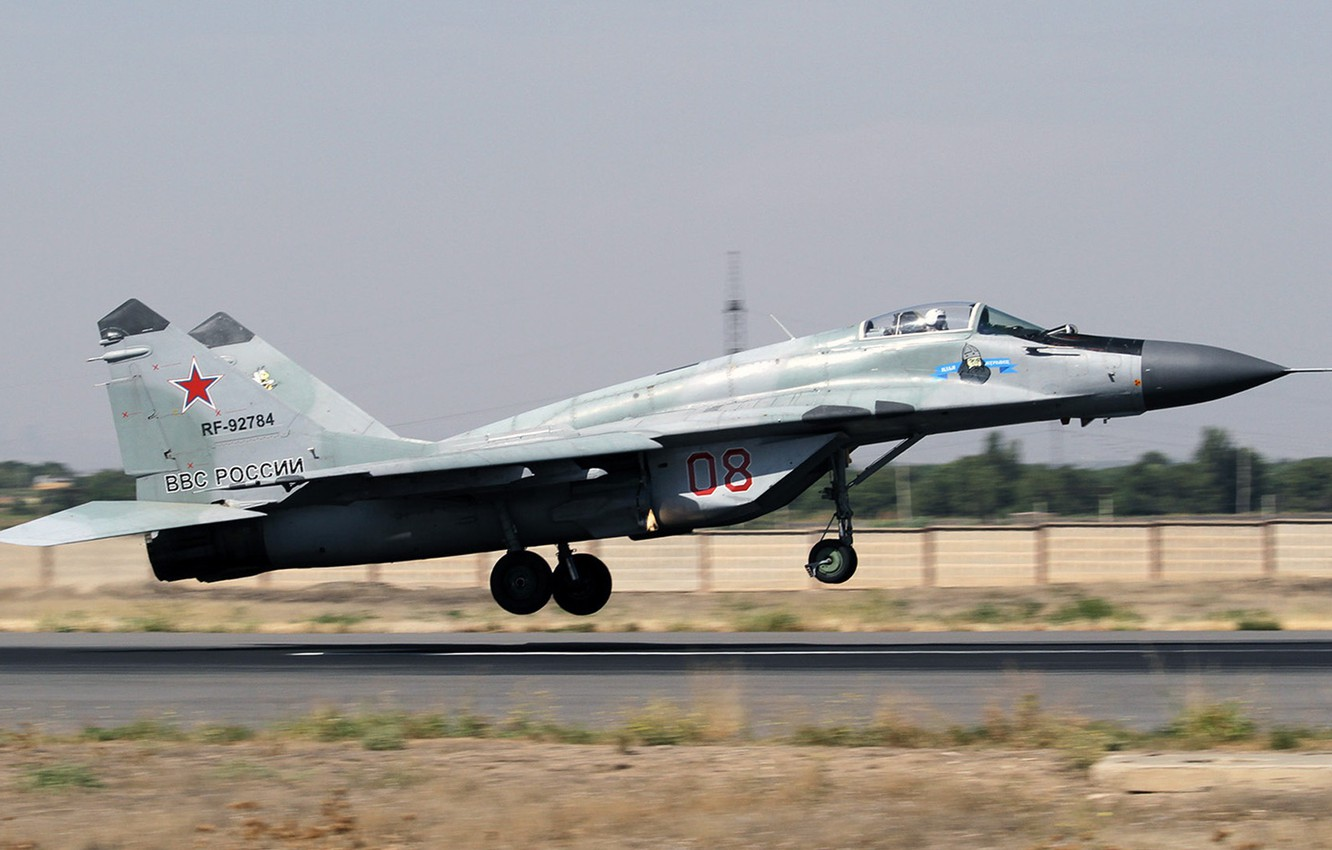Mig-29: (28, 232, 1299, 587)
